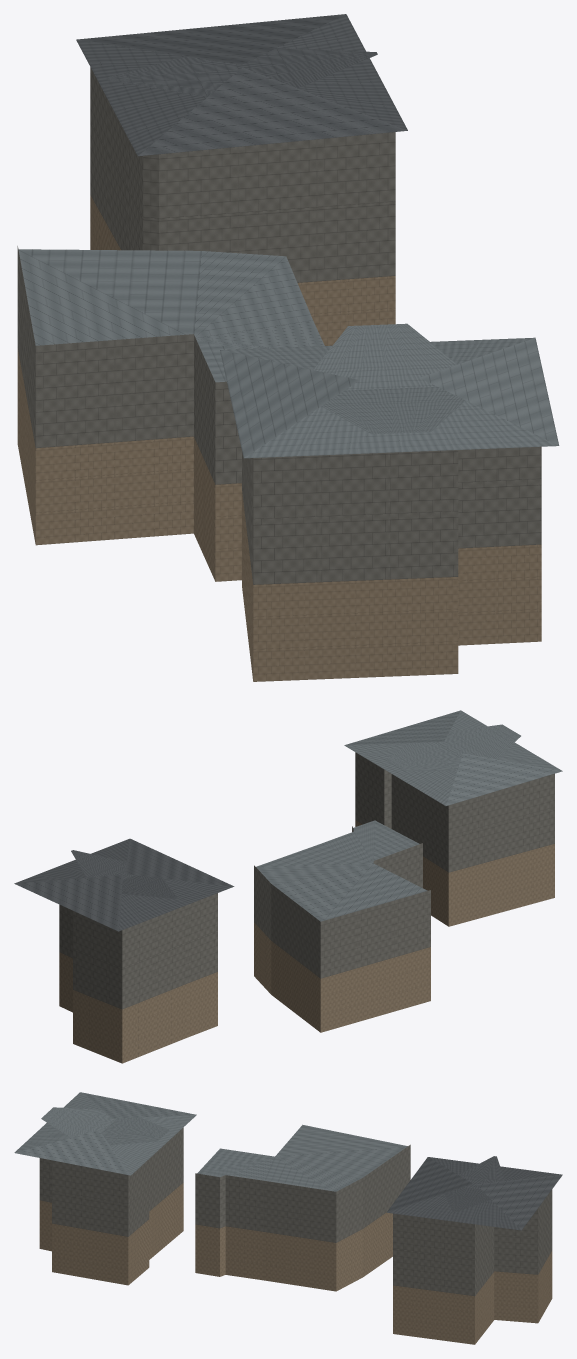
File: bld_c34_-29_452.gltf
3 renders of one model, top to bottom at view 1: azimuth 30°, elevation 25°; view 2: azimuth 150°, elevation 25°; view 3: azimuth 270°, elevation 25°, orthographic. The views are drawn at different scales.
Visible parts, largest first — view 1: bld_c34_-29_452; view 2: bld_c34_-29_452; view 3: bld_c34_-29_452.
Boxes of the visible parts, left/top/right/bottom form: bld_c34_-29_452: left=17, top=14, right=559, bottom=681; bld_c34_-29_452: left=14, top=710, right=562, bottom=1063; bld_c34_-29_452: left=14, top=1092, right=562, bottom=1344.
Bounding box in the file's own units: 29.91 × 14.5 × 52.29.
5 materials, 5 textured.
